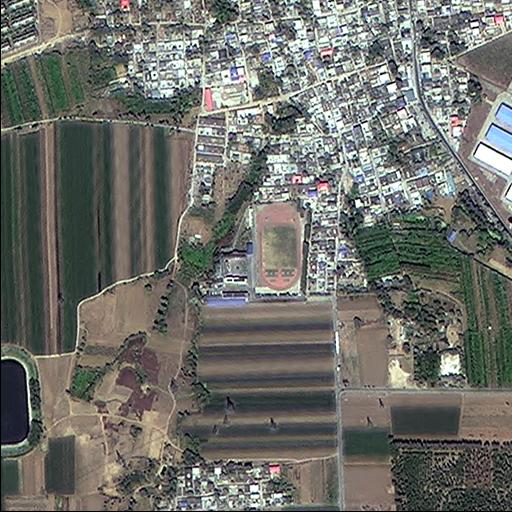school: (218, 203, 310, 307)
